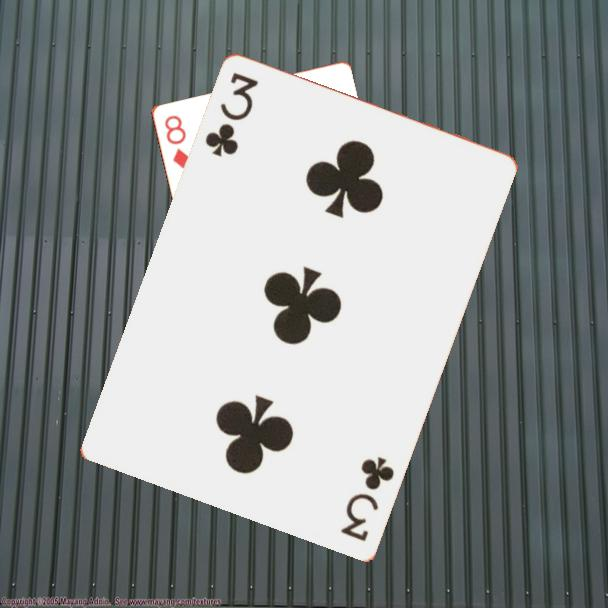c03: (337, 453, 398, 545), (201, 69, 262, 160)
d08: (161, 111, 191, 171)
